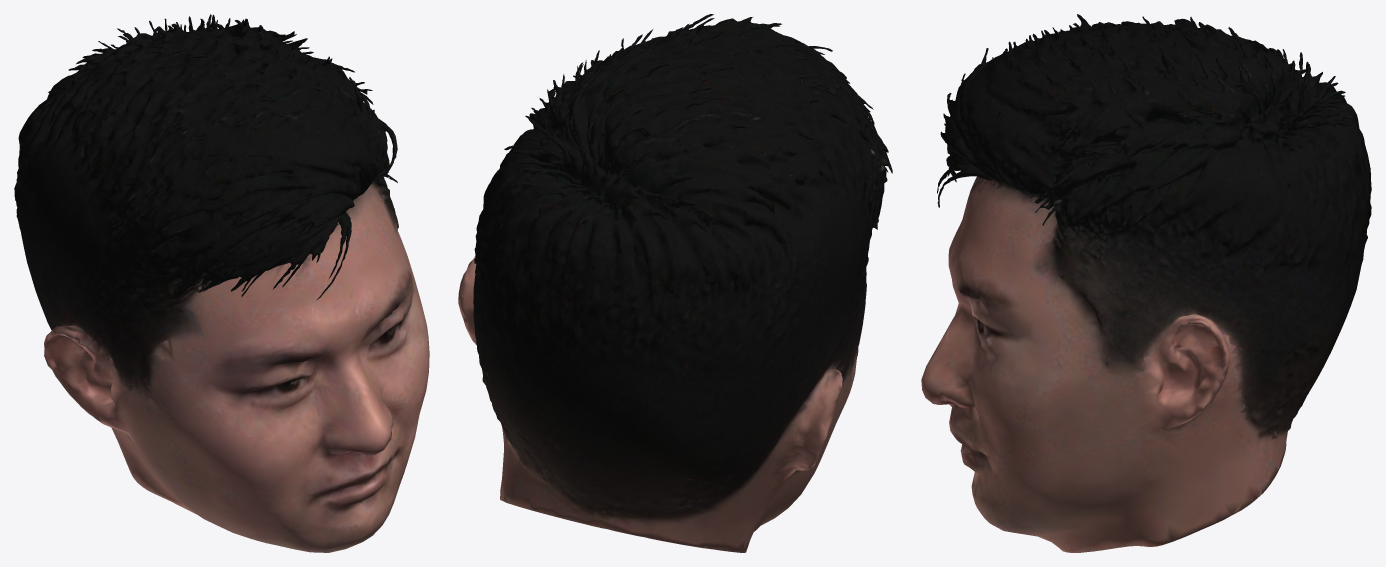
File: head_roby.glb
The picture shows the model from 3 angles, left to right: view 1: azimuth 30°, elevation 25°; view 2: azimuth 150°, elevation 25°; view 3: azimuth 270°, elevation 25°; orthographic projection. The views are drawn at different scales.
Parts seen in each view (by area): view 1: Roby; view 2: Roby; view 3: Roby.
Part boxes in pixels (bbox=[...]): Roby: bbox=[14, 14, 429, 552]; Roby: bbox=[458, 14, 892, 552]; Roby: bbox=[921, 14, 1371, 552].
Size of the model in its own units: 0.181 by 0.2498 by 0.2103.
Materials: 1 (1 with a texture image).
